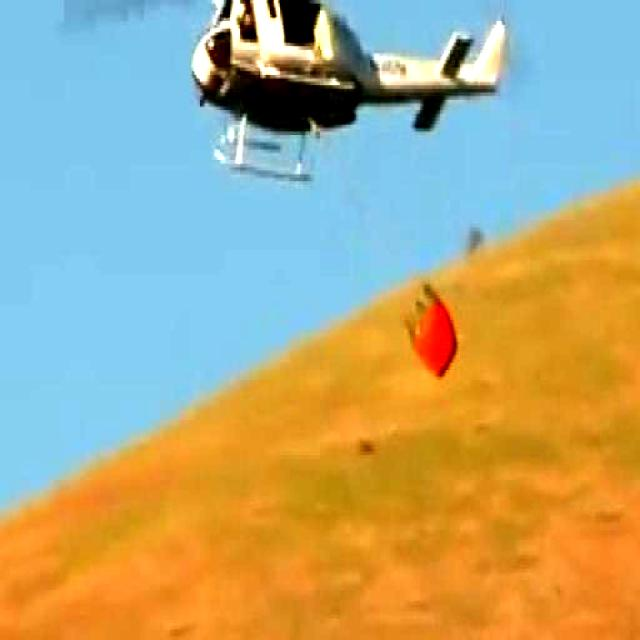drone: (56, 0, 509, 191)
